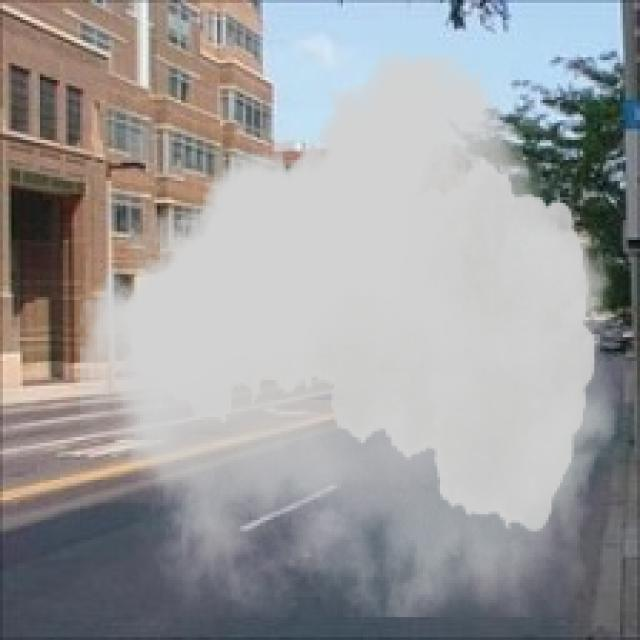smoke: (80, 52, 620, 617)
